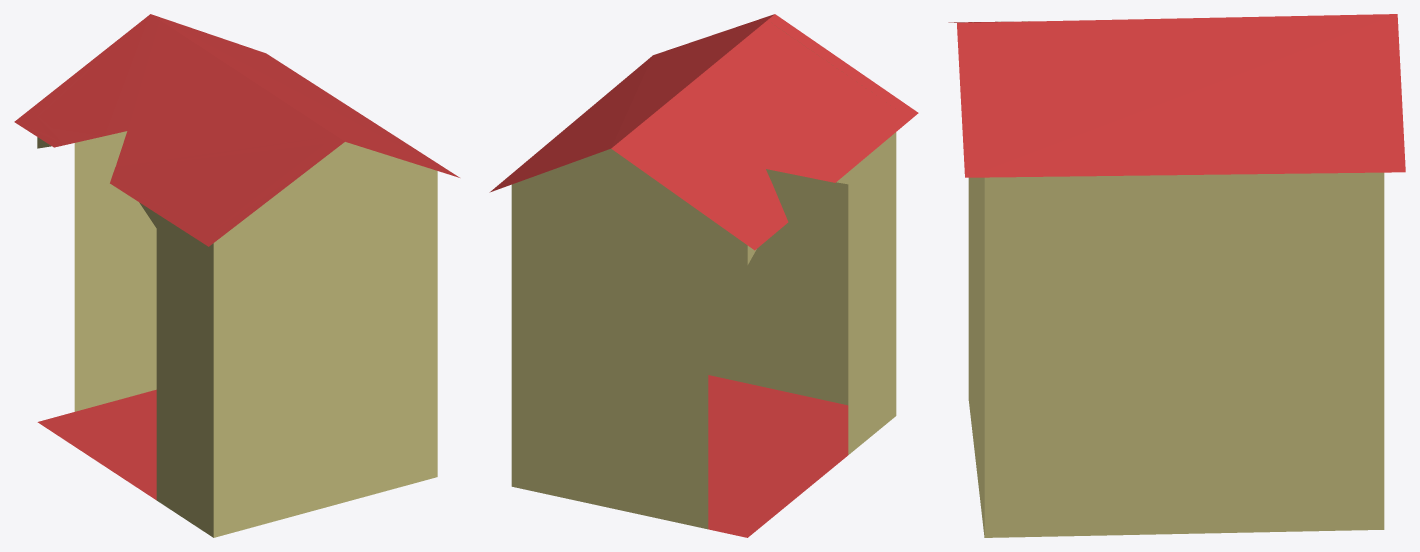
3 views of the same model, side by side, from view 1: azimuth 30°, elevation 25°; view 2: azimuth 150°, elevation 25°; view 3: azimuth 270°, elevation 25° (orthographic). The views are drawn at different scales.
Bounding box in the file's own units: 9.48 × 11.17 × 12.17.
